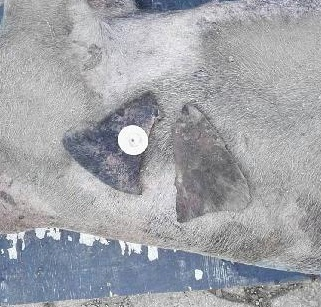text: (97, 113, 167, 180)
